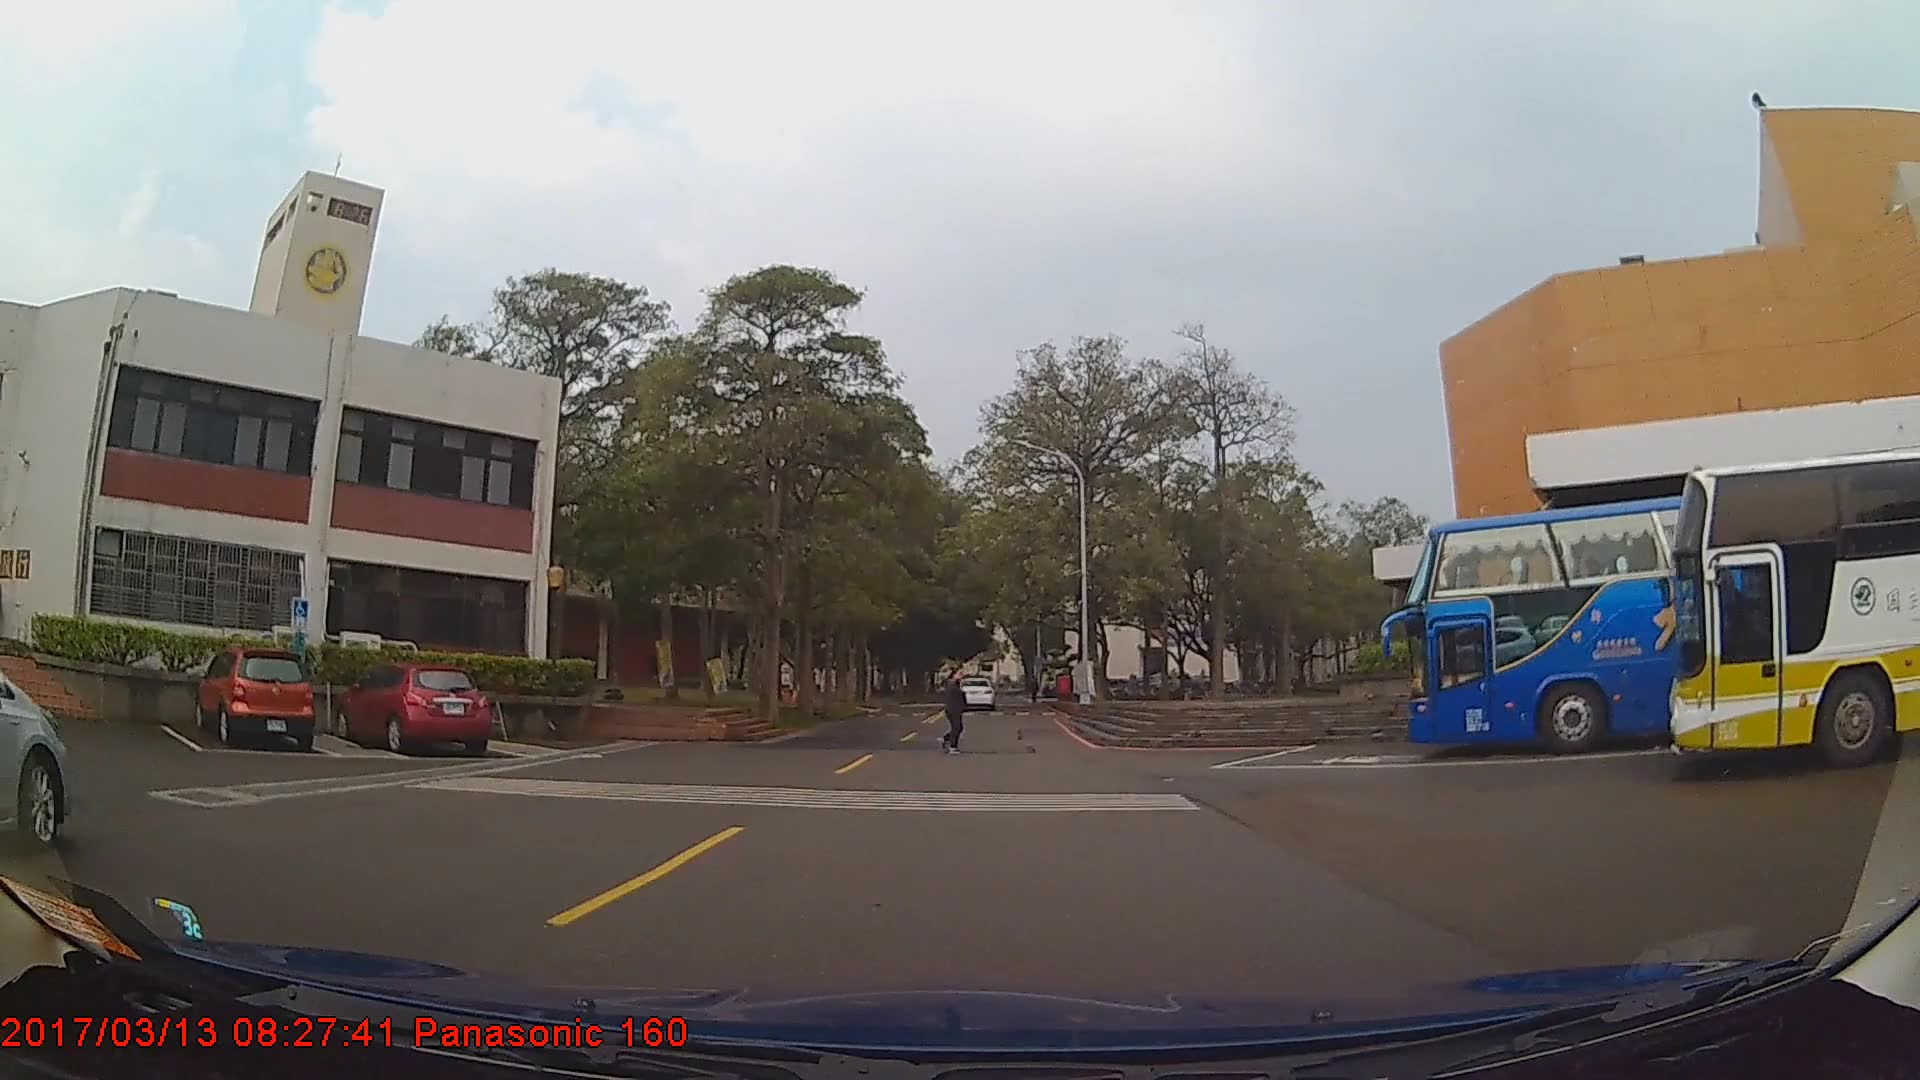pedestrian: (934, 665, 975, 754)
vehicle: (1410, 470, 1920, 755), (1670, 442, 1920, 769), (333, 664, 490, 755), (0, 665, 73, 851), (192, 647, 315, 753), (955, 676, 997, 711)
